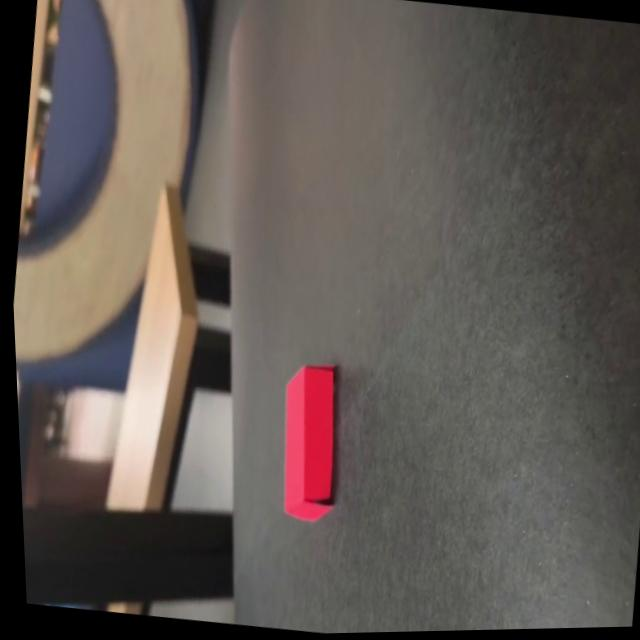red block: (267, 356, 352, 523)
